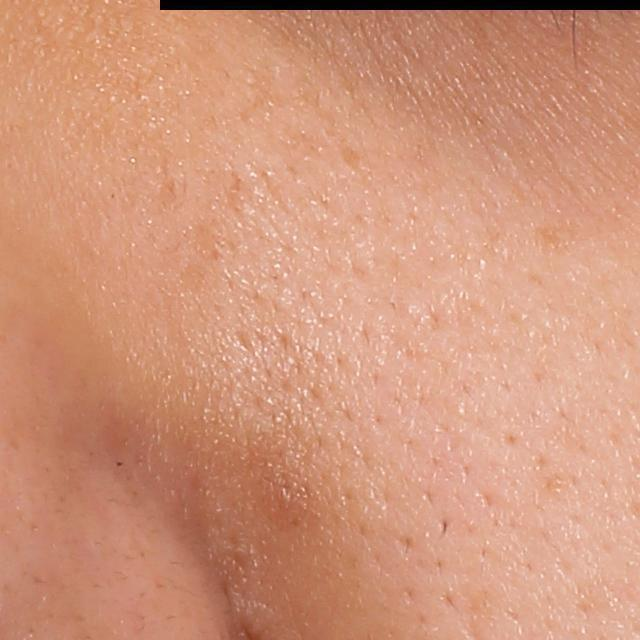melasma: (532, 218, 586, 261), (188, 214, 232, 263), (337, 142, 364, 171)
